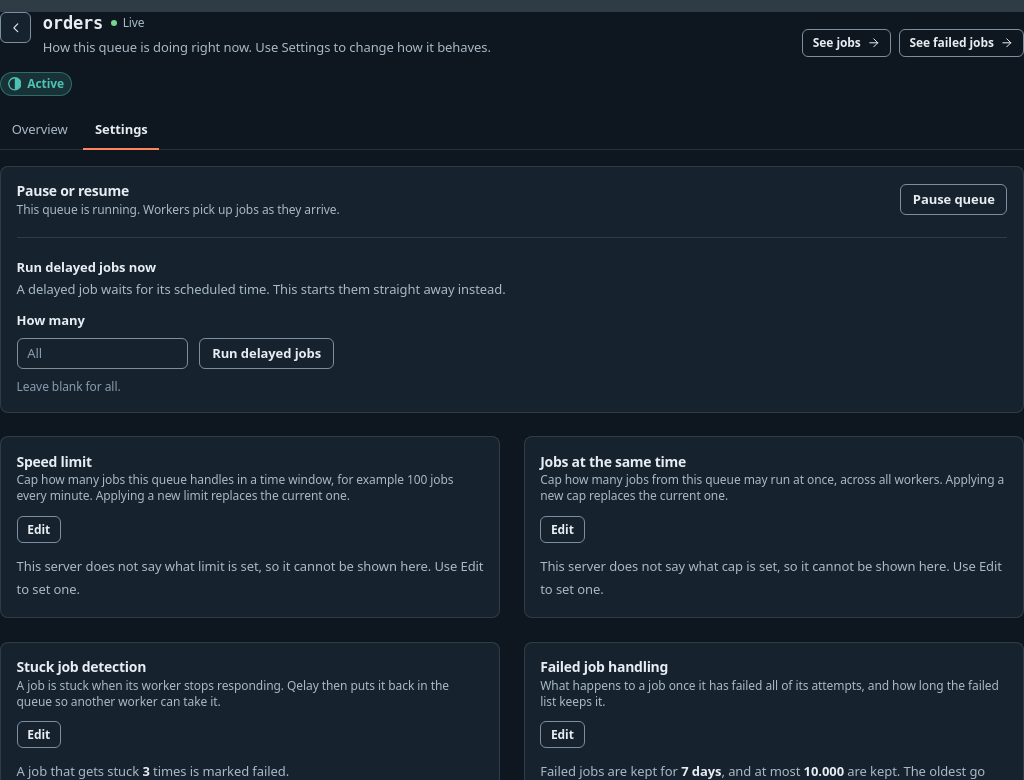
it: QueueDetailPro mutation safety › a malformed mutation ACK is an error, never a success
The width and height of the screenshot is (1024, 780).
Step 1. Click the button "Pause queue" → (954, 200), box x1=900 y1=184 x2=1008 y2=216
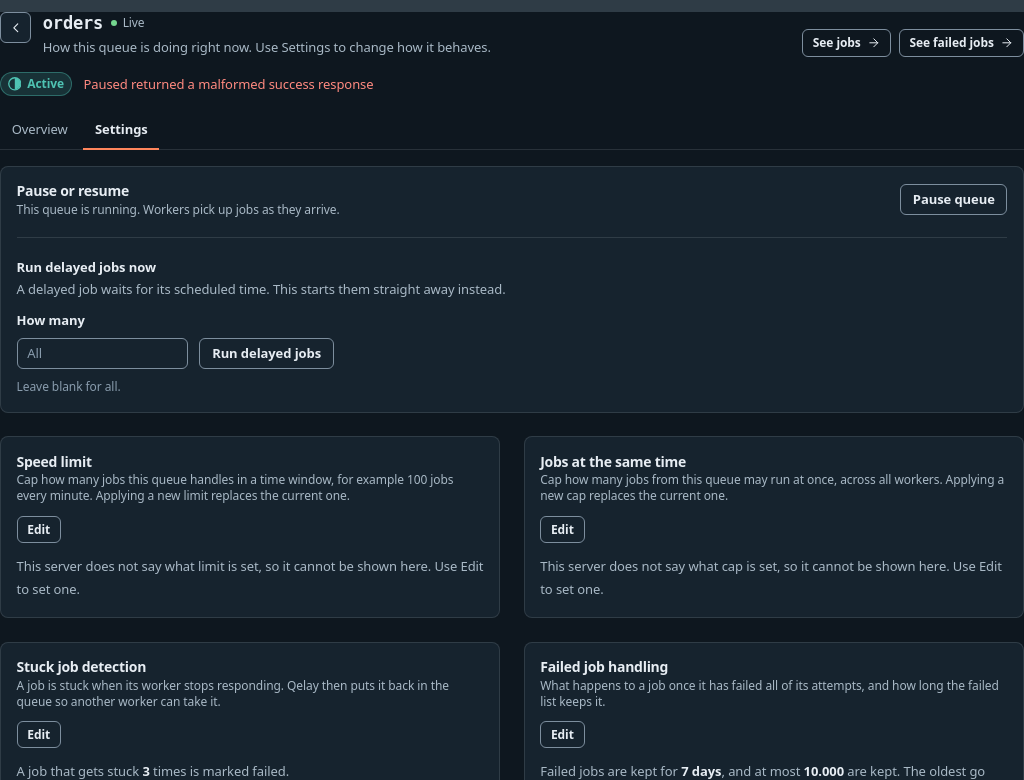
Now the text "Paused returned a malformed success response" is shown, box x1=84 y1=75 x2=374 y2=93
